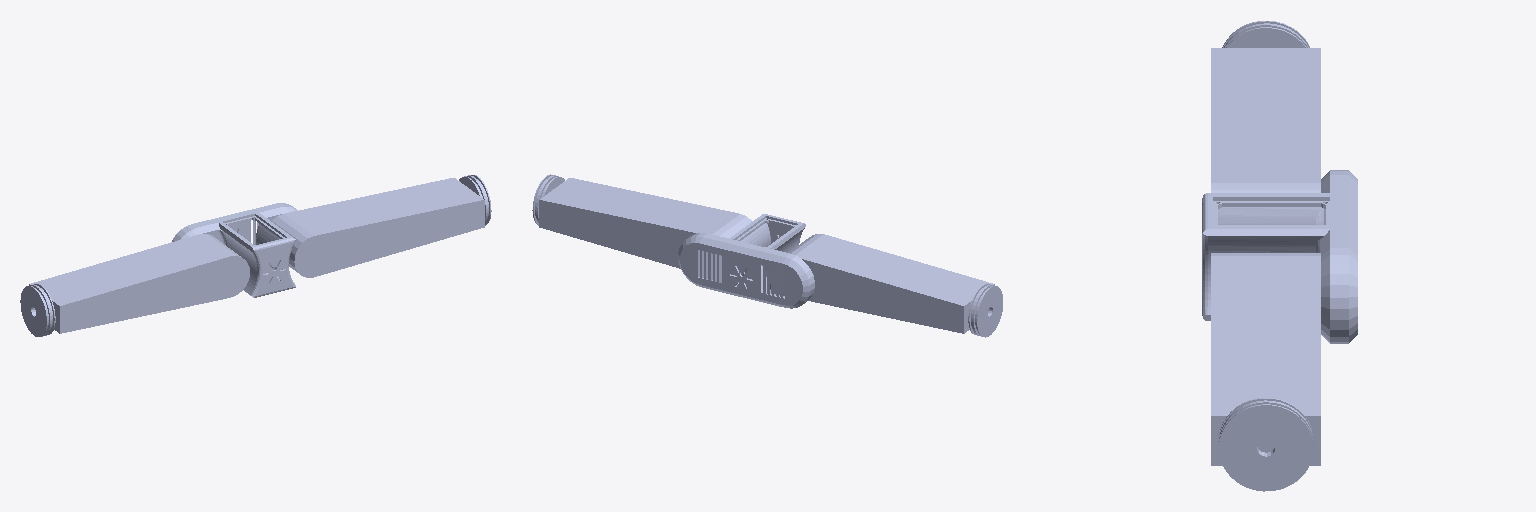
URDF robot description (urdf feb 27 10 aam):
<?xml version="1.0" encoding="utf-8"?>
<!-- This URDF was automatically created by SolidWorks to URDF Exporter! Originally created by [author] ([email redacted]) 
     Commit Version: 1.6.0-4-g7f85cfe  Build Version: 1.6.7995.38578
     For more information, please see http://wiki.ros.org/sw_urdf_exporter -->
<robot
  name="urdf feb 27 10 aam">
  <link
    name="base_link">
    <inertial>
      <origin
        xyz="0.0341048176202521 0.112184795428881 0.0854022801942358"
        rpy="0 0 0" />
      <mass
        value="0.770945367382027" />
      <inertia
        ixx="0.00273358105534265"
        ixy="-3.65047907064546E-06"
        ixz="2.07339807416297E-06"
        iyy="0.00619154781631375"
        iyz="7.37449664191245E-05"
        izz="0.00513194515572194" />
    </inertial>
    <visual>
      <origin
        xyz="0 0 0"
        rpy="0 0 0" />
      <geometry>
        <mesh
          filename="package://urdf feb 27 10 aam/meshes/base_link.STL" />
      </geometry>
      <material
        name="">
        <color
          rgba="0.792156862745098 0.819607843137255 0.933333333333333 1" />
      </material>
    </visual>
    <collision>
      <origin
        xyz="0 0 0"
        rpy="0 0 0" />
      <geometry>
        <mesh
          filename="package://urdf feb 27 10 aam/meshes/base_link.STL" />
      </geometry>
    </collision>
  </link>
  <link
    name="right arm">
    <inertial>
      <origin
        xyz="0.0610331123174011 -0.0120587823345024 0.177819724519007"
        rpy="0 0 0" />
      <mass
        value="3.51528197503804" />
      <inertia
        ixx="0.0484541240686353"
        ixy="-4.37936519842678E-05"
        ixz="0.000645784534085394"
        iyy="0.0507626975814893"
        iyz="0.00302868230132721"
        izz="0.00630690627460051" />
    </inertial>
    <visual>
      <origin
        xyz="0 0 0"
        rpy="0 0 0" />
      <geometry>
        <mesh
          filename="package://urdf feb 27 10 aam/meshes/right arm.STL" />
      </geometry>
      <material
        name="">
        <color
          rgba="0.792156862745098 0.819607843137255 0.933333333333333 1" />
      </material>
    </visual>
    <collision>
      <origin
        xyz="0 0 0"
        rpy="0 0 0" />
      <geometry>
        <mesh
          filename="package://urdf feb 27 10 aam/meshes/right arm.STL" />
      </geometry>
    </collision>
  </link>
  <joint
    name="pitch1"
    type="revolute">
    <origin
      xyz="0.12909 -0.060516 0.11483"
      rpy="-1.63 0 -1.5708" />
    <parent
      link="base_link" />
    <child
      link="right arm" />
    <axis
      xyz="1 0 0" />
    <limit
      lower="0"
      upper="0"
      effort="0"
      velocity="0" />
  </joint>
  <link
    name="rightwheel">
    <inertial>
      <origin
        xyz="5.55111512312578E-17 -0.0110613871523054 9.71445146547012E-17"
        rpy="0 0 0" />
      <mass
        value="0.148096749357929" />
      <inertia
        ixx="0.000100668249901381"
        ixy="-1.18343401380527E-20"
        ixz="-3.3881317890172E-21"
        iyy="0.00019126897599345"
        iyz="2.68584452072793E-20"
        izz="0.000100668249901381" />
    </inertial>
    <visual>
      <origin
        xyz="0 0 0"
        rpy="0 0 0" />
      <geometry>
        <mesh
          filename="package://urdf feb 27 10 aam/meshes/rightwheel.STL" />
      </geometry>
      <material
        name="">
        <color
          rgba="0.792156862745098 0.819607843137255 0.933333333333333 1" />
      </material>
    </visual>
    <collision>
      <origin
        xyz="0 0 0"
        rpy="0 0 0" />
      <geometry>
        <mesh
          filename="package://urdf feb 27 10 aam/meshes/rightwheel.STL" />
      </geometry>
    </collision>
  </link>
  <joint
    name="roll2_1"
    type="revolute">
    <origin
      xyz="0.06 -0.026168 0.38587"
      rpy="-1.5557 0.066017 -1.3463" />
    <parent
      link="right arm" />
    <child
      link="rightwheel" />
    <axis
      xyz="0 -1 0" />
    <limit
      lower="0"
      upper="0"
      effort="0"
      velocity="0" />
  </joint>
  <link
    name="left arm">
    <inertial>
      <origin
        xyz="0.0610331123174011 0.0120587823345029 -0.177819724519008"
        rpy="0 0 0" />
      <mass
        value="3.51528197503804" />
      <inertia
        ixx="0.0484541240686352"
        ixy="4.37936519842689E-05"
        ixz="-0.000645784534085392"
        iyy="0.0507626975814892"
        iyz="0.00302868230132734"
        izz="0.00630690627460052" />
    </inertial>
    <visual>
      <origin
        xyz="0 0 0"
        rpy="0 0 0" />
      <geometry>
        <mesh
          filename="package://urdf feb 27 10 aam/meshes/left arm.STL" />
      </geometry>
      <material
        name="">
        <color
          rgba="0.792156862745098 0.819607843137255 0.933333333333333 1" />
      </material>
    </visual>
    <collision>
      <origin
        xyz="0 0 0"
        rpy="0 0 0" />
      <geometry>
        <mesh
          filename="package://urdf feb 27 10 aam/meshes/left arm.STL" />
      </geometry>
    </collision>
  </link>
  <joint
    name="pitch 2"
    type="revolute">
    <origin
      xyz="-0.060906 -0.060516 0.11483"
      rpy="-1.6309 0 -1.5708" />
    <parent
      link="base_link" />
    <child
      link="left arm" />
    <axis
      xyz="1 0 0" />
    <limit
      lower="0"
      upper="0"
      effort="0"
      velocity="0" />
  </joint>
  <link
    name="leftwheel">
    <inertial>
      <origin
        xyz="1.38777878078145E-17 -0.0107880460786924 0"
        rpy="0 0 0" />
      <mass
        value="0.148096749357929" />
      <inertia
        ixx="0.000100668249901381"
        ixy="3.94929111657318E-20"
        ixz="9.21116389066112E-24"
        iyy="0.000191268975993451"
        iyz="3.02058340617418E-21"
        izz="0.000100668249901381" />
    </inertial>
    <visual>
      <origin
        xyz="0 0 0"
        rpy="0 0 0" />
      <geometry>
        <mesh
          filename="package://urdf feb 27 10 aam/meshes/leftwheel.STL" />
      </geometry>
      <material
        name="">
        <color
          rgba="0.792156862745098 0.819607843137255 0.933333333333333 1" />
      </material>
    </visual>
    <collision>
      <origin
        xyz="0 0 0"
        rpy="0 0 0" />
      <geometry>
        <mesh
          filename="package://urdf feb 27 10 aam/meshes/leftwheel.STL" />
      </geometry>
    </collision>
  </link>
  <joint
    name="roll2_2"
    type="revolute">
    <origin
      xyz="0.06 0.026525 -0.39114"
      rpy="1.5708 -0.067711 1.5708" />
    <parent
      link="left arm" />
    <child
      link="leftwheel" />
    <axis
      xyz="0 -1 0" />
    <limit
      lower="0"
      upper="0"
      effort="0"
      velocity="0" />
  </joint>
  <link
    name="centre wheel 1">
    <inertial>
      <origin
        xyz="0 -2.77555756156289E-17 0.00499999999998529"
        rpy="0 0 0" />
      <mass
        value="0.162184720741573" />
      <inertia
        ixx="0.000219883669596311"
        ixy="6.7762635780344E-21"
        ixz="-5.42049942532147E-23"
        iyy="0.000219883669596311"
        iyz="4.70651748977798E-23"
        izz="0.000436921907036522" />
    </inertial>
    <visual>
      <origin
        xyz="0 0 0"
        rpy="0 0 0" />
      <geometry>
        <mesh
          filename="package://urdf feb 27 10 aam/meshes/centre wheel 1.STL" />
      </geometry>
      <material
        name="">
        <color
          rgba="0.792156862745098 0.819607843137255 0.933333333333333 1" />
      </material>
    </visual>
    <collision>
      <origin
        xyz="0 0 0"
        rpy="0 0 0" />
      <geometry>
        <mesh
          filename="package://urdf feb 27 10 aam/meshes/centre wheel 1.STL" />
      </geometry>
    </collision>
  </link>
  <joint
    name="roll1_1"
    type="revolute">
    <origin
      xyz="0.033971 -0.19152 0.11483"
      rpy="1.5708 0.13085 0" />
    <parent
      link="base_link" />
    <child
      link="centre wheel 1" />
    <axis
      xyz="0 0 -1" />
    <limit
      lower="0"
      upper="0"
      effort="0"
      velocity="0" />
  </joint>
  <link
    name="centre wheel2">
    <inertial>
      <origin
        xyz="-6.93889390390723E-18 -5.55111512312578E-17 0.00499999999998527"
        rpy="0 0 0" />
      <mass
        value="0.162184720741573" />
      <inertia
        ixx="0.000219883669596311"
        ixy="2.5410988417629E-21"
        ixz="2.3028350281132E-22"
        iyy="0.000219883669596311"
        iyz="2.26054340074541E-23"
        izz="0.000436921907036522" />
    </inertial>
    <visual>
      <origin
        xyz="0 0 0"
        rpy="0 0 0" />
      <geometry>
        <mesh
          filename="package://urdf feb 27 10 aam/meshes/centre wheel2.STL" />
      </geometry>
      <material
        name="">
        <color
          rgba="0.792156862745098 0.819607843137255 0.933333333333333 1" />
      </material>
    </visual>
    <collision>
      <origin
        xyz="0 0 0"
        rpy="0 0 0" />
      <geometry>
        <mesh
          filename="package://urdf feb 27 10 aam/meshes/centre wheel2.STL" />
      </geometry>
    </collision>
  </link>
  <joint
    name="roll1_2"
    type="revolute">
    <origin
      xyz="0.033971 -0.0095161 0.11483"
      rpy="1.5708 0.064289 0" />
    <parent
      link="base_link" />
    <child
      link="centre wheel2" />
    <axis
      xyz="0 0 -1" />
    <limit
      lower="0"
      upper="0"
      effort="0"
      velocity="0" />
  </joint>
</robot>

--- Facts derived from the render (not from the file) ---
3 views of the same robot in one strip: view 1: azimuth 30°, elevation 25°; view 2: azimuth 150°, elevation 25°; view 3: azimuth 270°, elevation 25° (orthographic).
Model urdf feb 27 10 aam with 7 links and 6 joints (6 revolute), rooted at base_link, posed every joint at zero.
Visible links, largest first — view 1: right arm, left arm, base_link, leftwheel, rightwheel; view 2: left arm, right arm, base_link, leftwheel, rightwheel; view 3: right arm, left arm, base_link, rightwheel, leftwheel.
Link boxes in pixels (x1=…): right arm: x1=271, y1=178, x2=484, y2=277; left arm: x1=29, y1=234, x2=249, y2=333; base_link: x1=172, y1=203, x2=297, y2=297; leftwheel: x1=20, y1=284, x2=55, y2=336; rightwheel: x1=459, y1=175, x2=491, y2=225; left arm: x1=789, y1=234, x2=994, y2=333; right arm: x1=539, y1=178, x2=752, y2=268; base_link: x1=678, y1=214, x2=814, y2=308; leftwheel: x1=968, y1=284, x2=1002, y2=337; rightwheel: x1=532, y1=174, x2=564, y2=225; right arm: x1=1211, y1=253, x2=1320, y2=465; left arm: x1=1211, y1=48, x2=1320, y2=192; base_link: x1=1202, y1=170, x2=1357, y2=343; rightwheel: x1=1219, y1=398, x2=1313, y2=491; leftwheel: x1=1222, y1=21, x2=1309, y2=47.
Size in the robot's own frame: 1.01 by 0.17 by 0.1106 metres.
Meshes: 7 distinct files referenced, 5 mesh visuals loaded (5 binary STL); not drawn: 2 (reference not matched to a file when rendering).